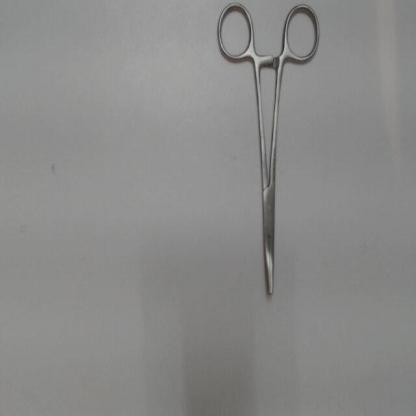Crile Artery Forceps: (214, 3, 324, 308)
